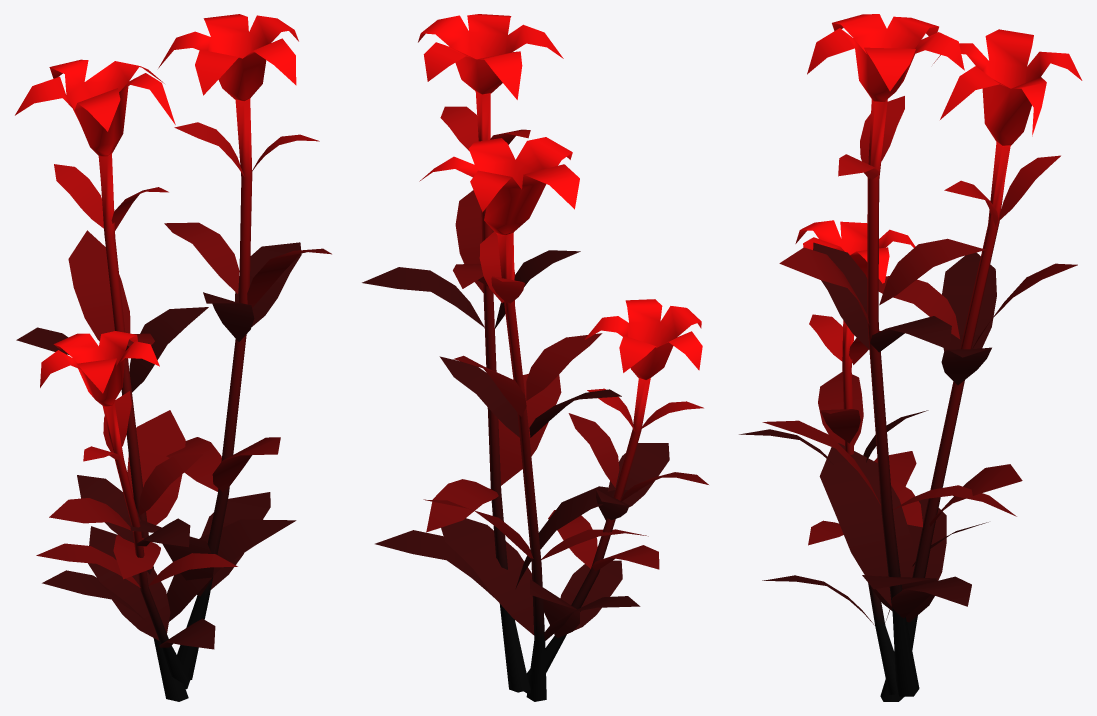
Rendered from flower_e1.fbx.
3 renders of one model, left to right at view 1: azimuth 30°, elevation 25°; view 2: azimuth 150°, elevation 25°; view 3: azimuth 270°, elevation 25°, orthographic. The views are drawn at different scales.
Visible parts, largest first — view 1: geo_flower_e1_LOD0; view 2: geo_flower_e1_LOD0; view 3: geo_flower_e1_LOD0.
Boxes of the visible parts, x1,y1,x2,y2 form: geo_flower_e1_LOD0: (15,14,331,701); geo_flower_e1_LOD0: (362,14,708,701); geo_flower_e1_LOD0: (739,14,1082,701).
Size of what is drawn, in the model's own units: 0.3926 by 0.814 by 0.3639.
